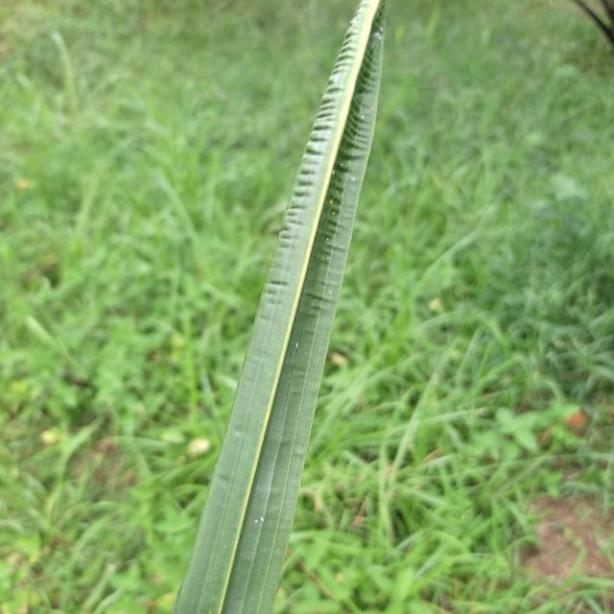Boron: (176, 0, 390, 614)
